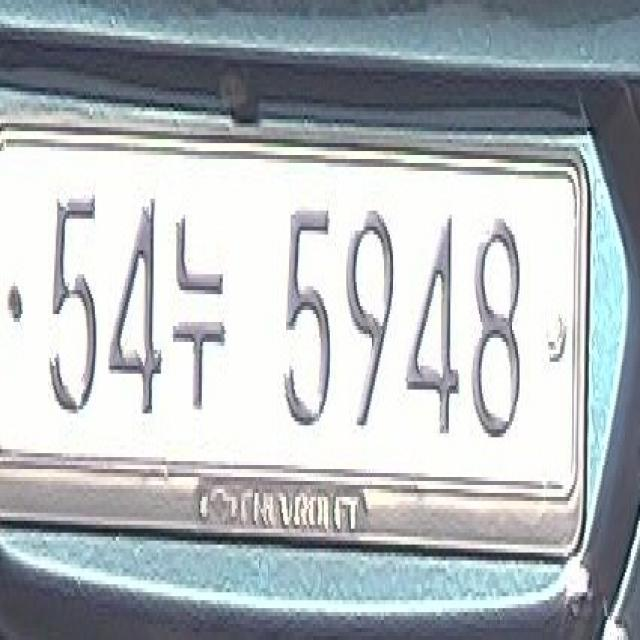4: (406, 187, 474, 469), (101, 179, 169, 421)
5: (38, 159, 112, 453), (268, 171, 345, 453)
8: (470, 203, 533, 457)
9: (336, 167, 397, 481)
license_plate: (1, 95, 598, 533)
nu: (168, 203, 240, 405)
